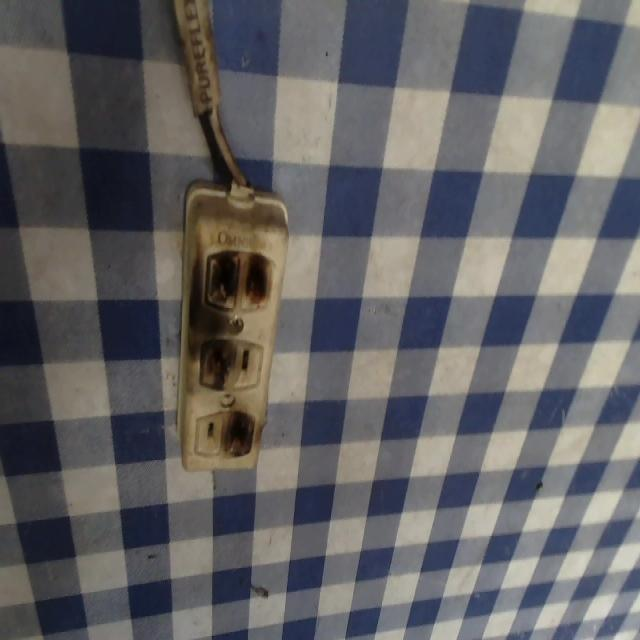-: (199, 244, 271, 309), (195, 335, 233, 389), (219, 405, 254, 459)
